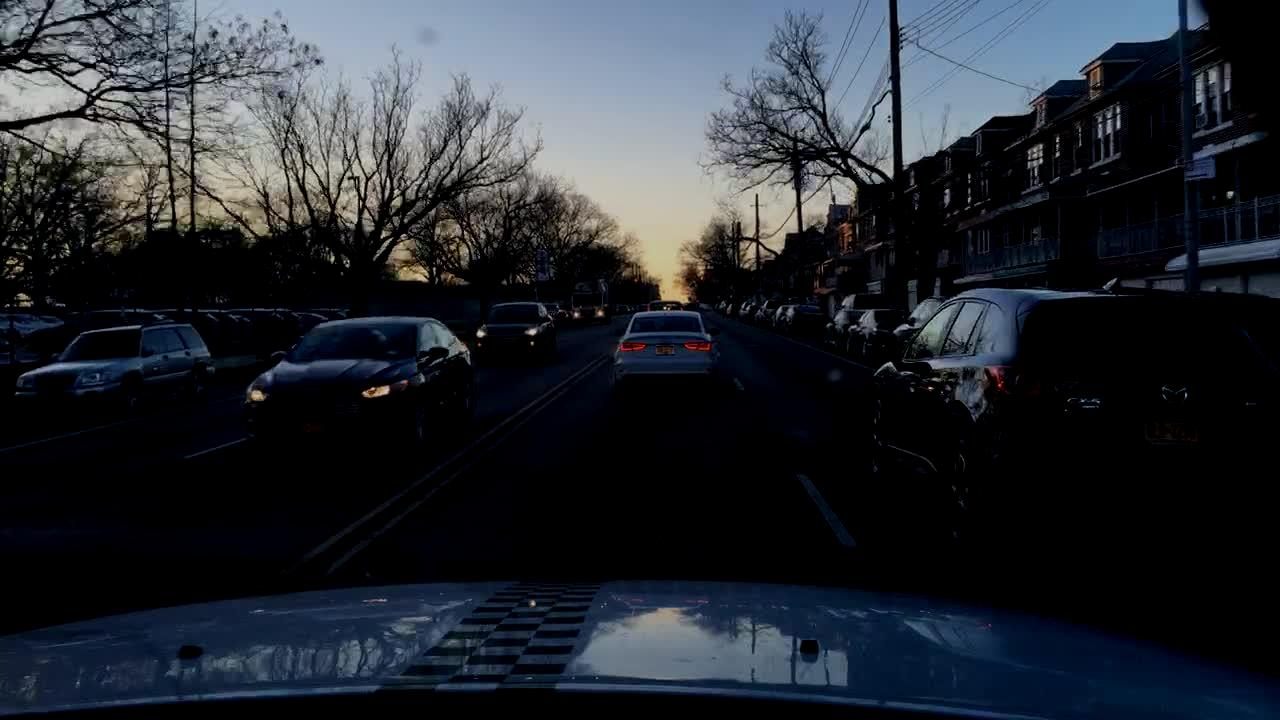Mazda: (1145, 373, 1198, 412)
